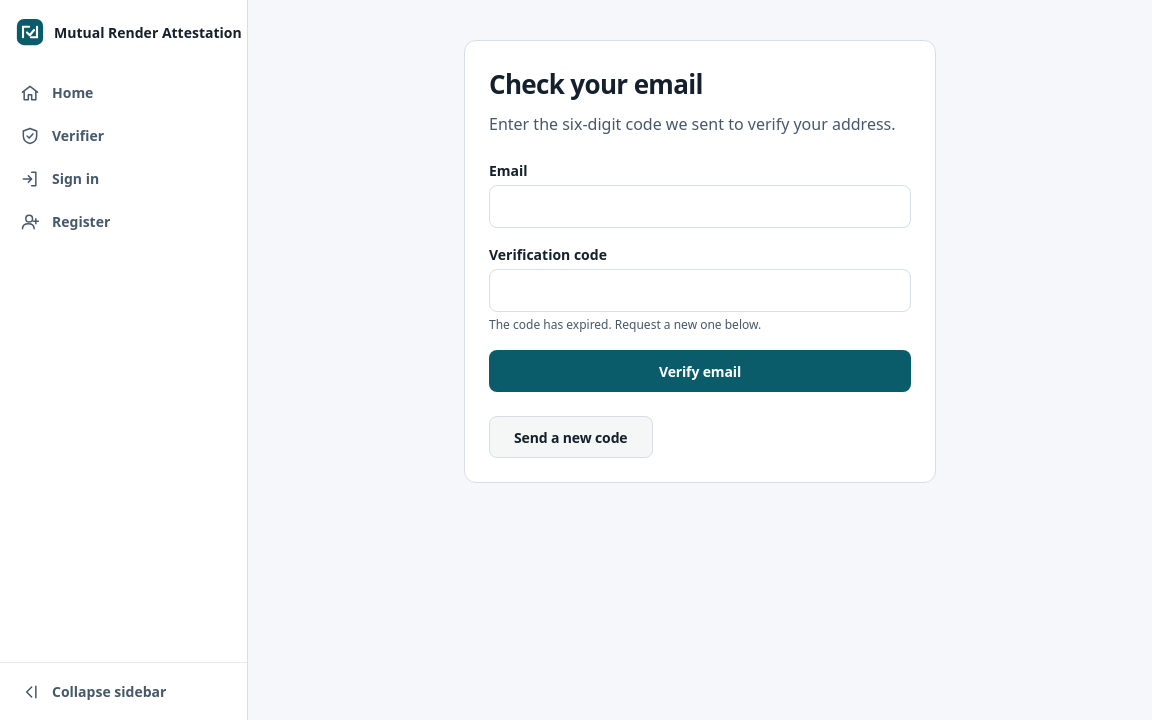
VerifyEmail page › asks for the email when arriving without router state
Expected: the field labelled "Email" is shown, [489,185,911,228]
Click the button "Send a new code": (571, 437) [489,416,652,458]
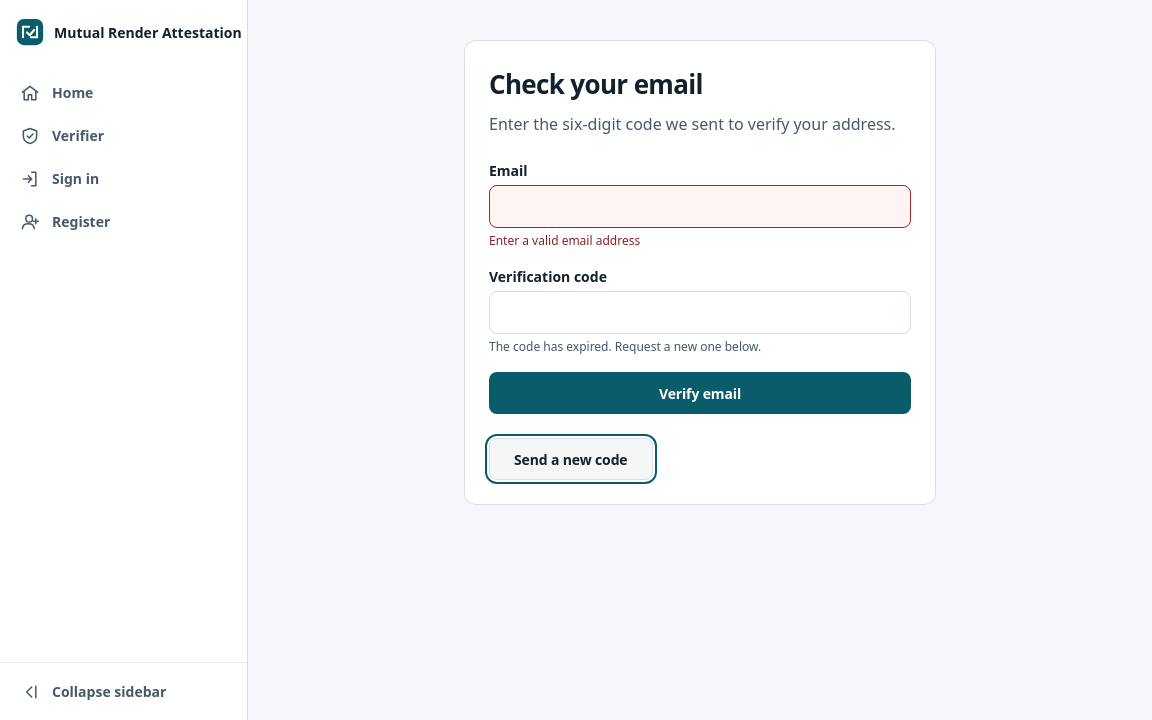
Now the text "Enter a valid email address" is shown, box [489,232,640,249]
In the field labelled "Email": (700, 206) [489,185,911,228], type "a@b.co"
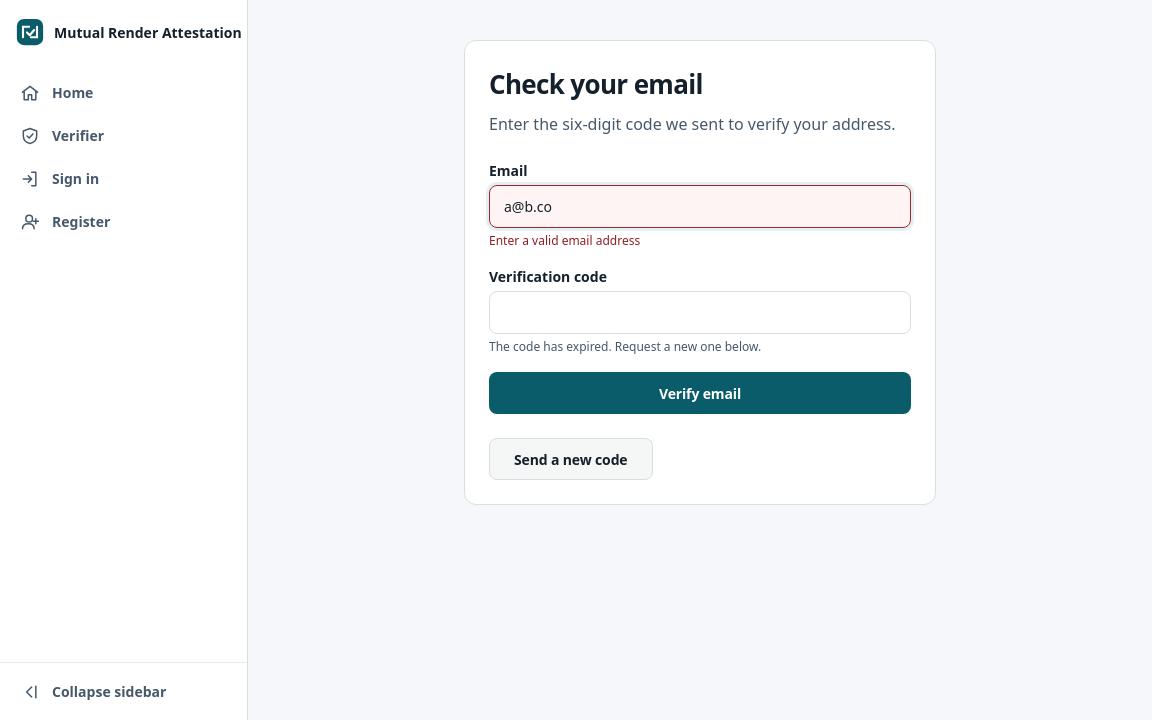
Click the button "Send a new code": (571, 459) [489,438,652,480]
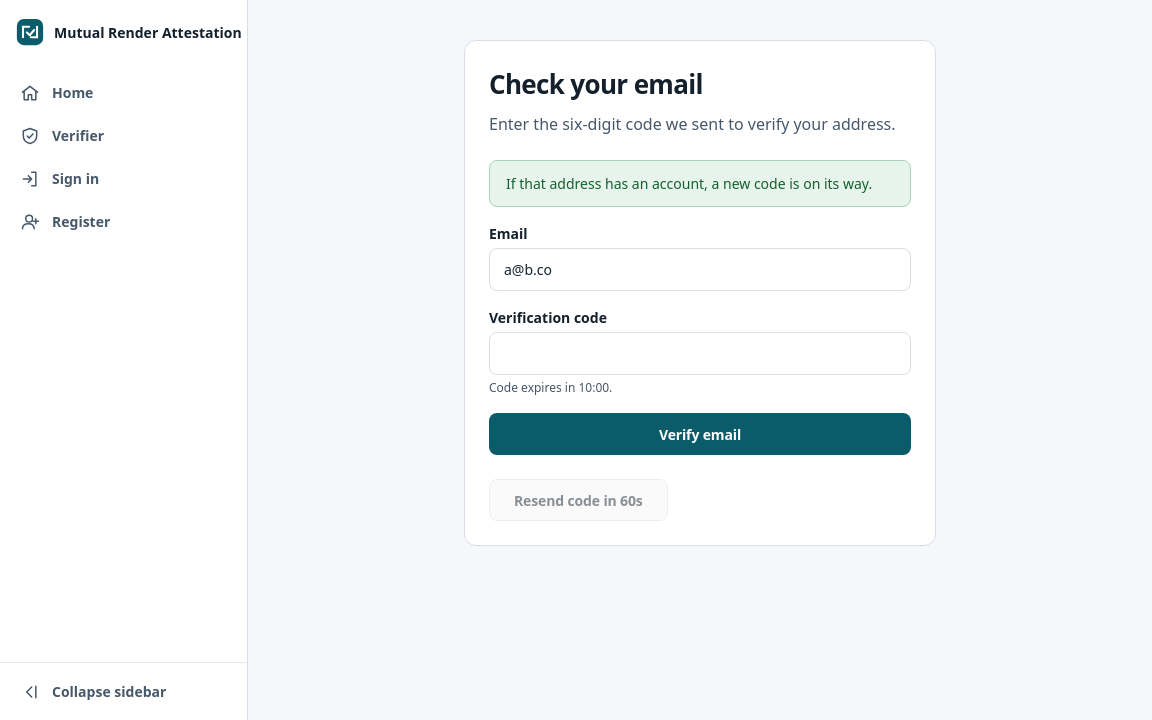
Now the text "If that address has an account, a new code is on its way." is shown, box [489,160,911,207]
